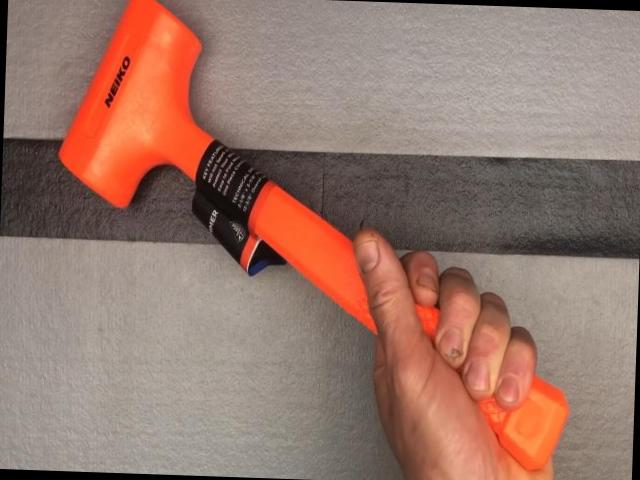hammer: (49, 0, 586, 472)
